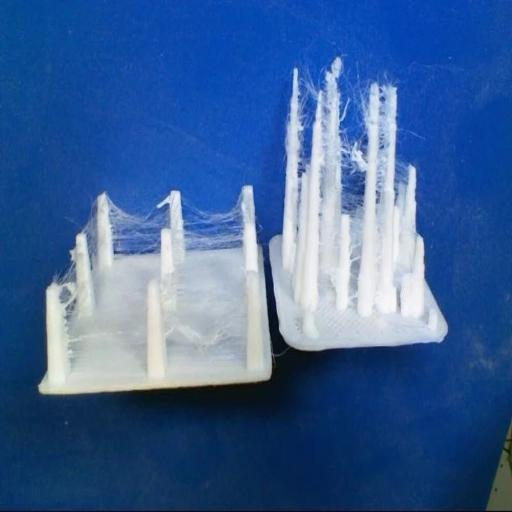stringing: (165, 290, 246, 355), (181, 192, 243, 249), (110, 202, 169, 253), (298, 70, 322, 163), (59, 255, 80, 319), (345, 86, 371, 137), (377, 91, 388, 208), (342, 133, 368, 180), (85, 211, 99, 272), (395, 156, 410, 203), (343, 183, 364, 213)
